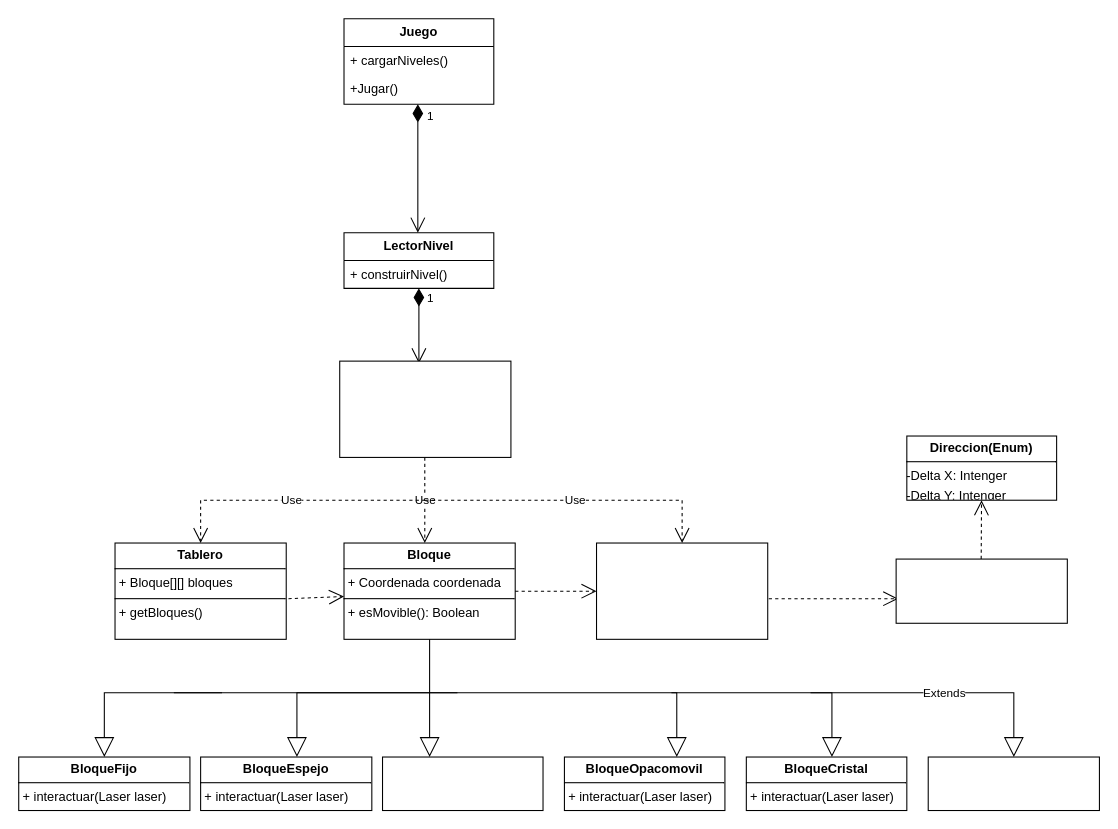
The diagram is 1118 pixels wide and 829 high, and some of its shapes have lost their labels. Here are the shapes that lost their labels. From the top down, the centre of each, then its label:
At point (425, 408): "Nivel + iniciarJuego() + imprimirTablero()".
At point (681, 590): "Laser + Direccion direccion + mover():".
At point (981, 590): "Coordenada - X : Intenger - Y : Intenger + method(): Type".
At point (462, 783): "BloqueOpacoFijo + interactuar(Laser laser) + method(): Type".
At point (1013, 783): "BloqueEspejo + interactuar(Laser laser)".
